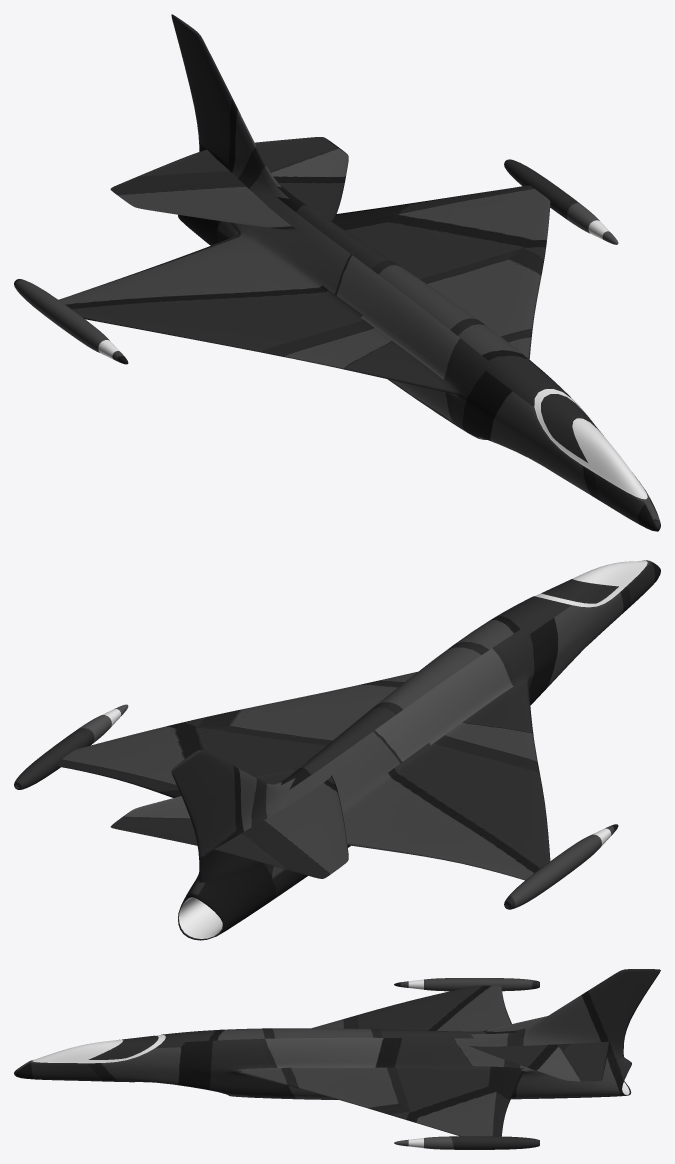
The model's file is enemy.glb.
3 renders of one model, top to bottom at view 1: azimuth 30°, elevation 25°; view 2: azimuth 150°, elevation 25°; view 3: azimuth 270°, elevation 25°, orthographic. The views are drawn at different scales.
Visible parts, largest first — view 1: SC_Wing_G.AMP_L01_.001_Cube.008; view 2: SC_Wing_G.AMP_L01_.001_Cube.008; view 3: SC_Wing_G.AMP_L01_.001_Cube.008.
Part boxes in pixels (x1,y1,x2,y2): SC_Wing_G.AMP_L01_.001_Cube.008: (14, 14, 660, 531); SC_Wing_G.AMP_L01_.001_Cube.008: (14, 560, 660, 940); SC_Wing_G.AMP_L01_.001_Cube.008: (14, 969, 660, 1149).
Size of the model in its own units: 25.23 by 9.18 by 42.
Materials: 5 (1 with a texture image).
